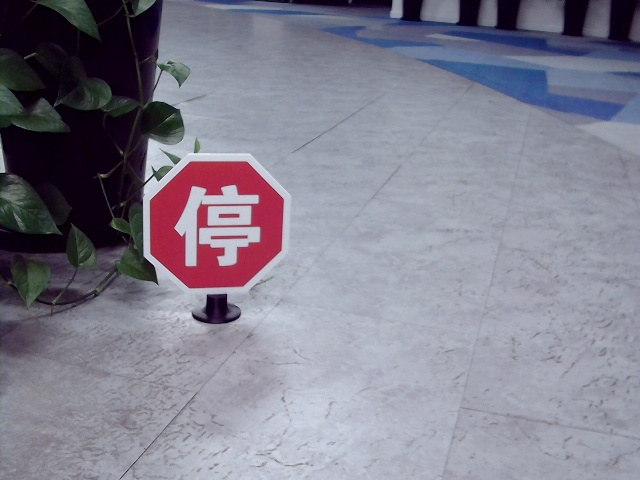stop: (175, 180, 263, 271)
